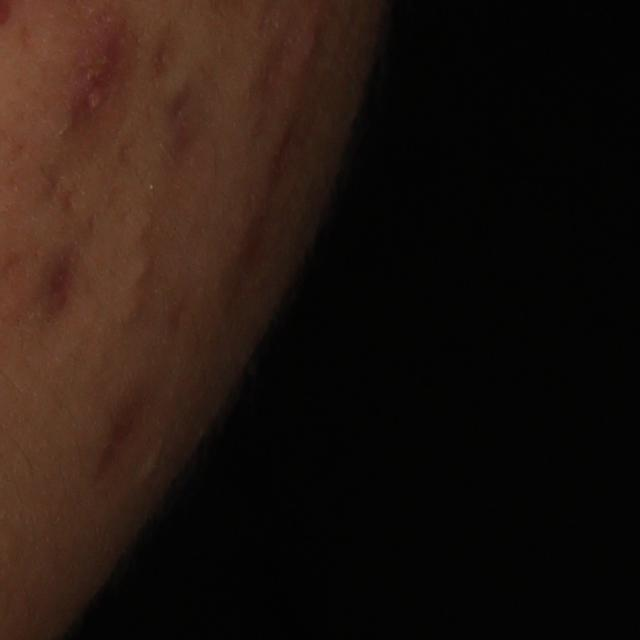atrophic_scar: (86, 390, 160, 492), (32, 229, 87, 335), (164, 82, 207, 188)
comedo: (130, 253, 154, 287)
papule: (62, 28, 131, 126), (290, 20, 324, 76)
